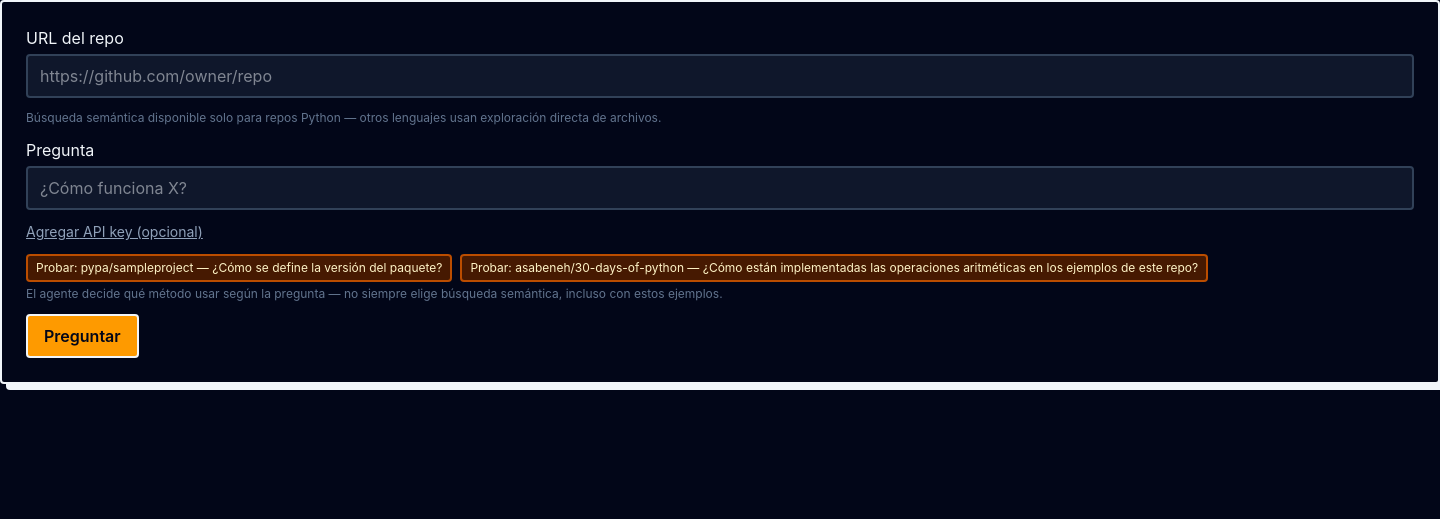
Scenario: RepoForm › shows an always-visible explanation when the API key field is expanded
Check: the text "CODERAG_API_KEY" is not shown
Click the button "Agregar API key (opcional)".
click(114, 232)  # box [26,222,203,242]
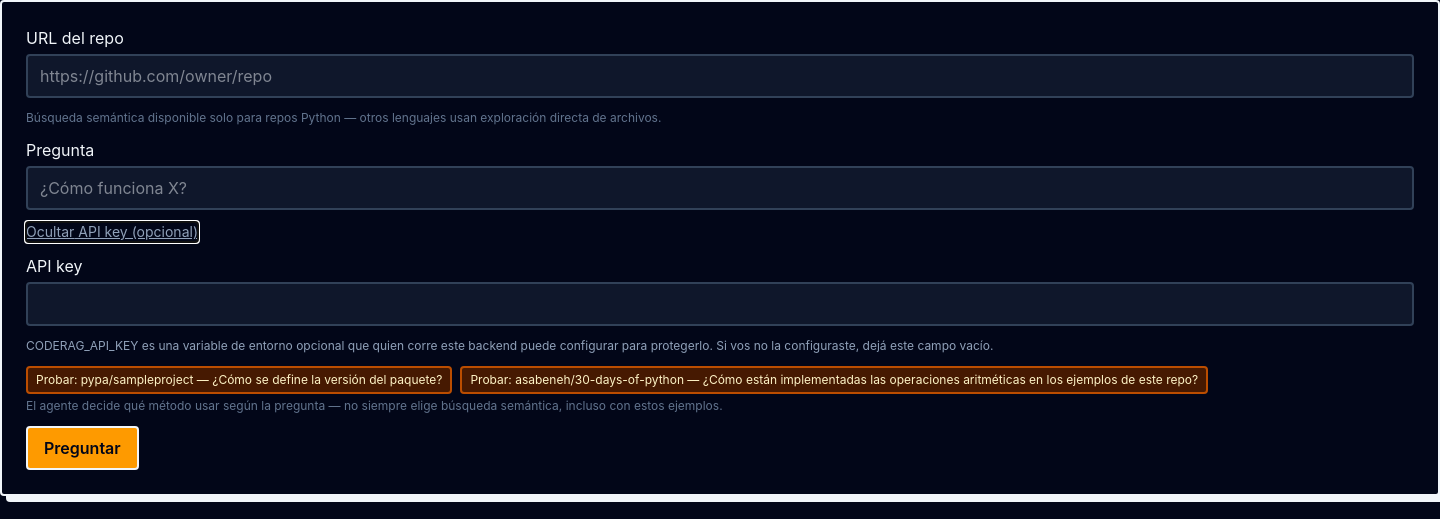
Check: the text "dejá este campo vacío" is shown, box [26,338,993,353]
